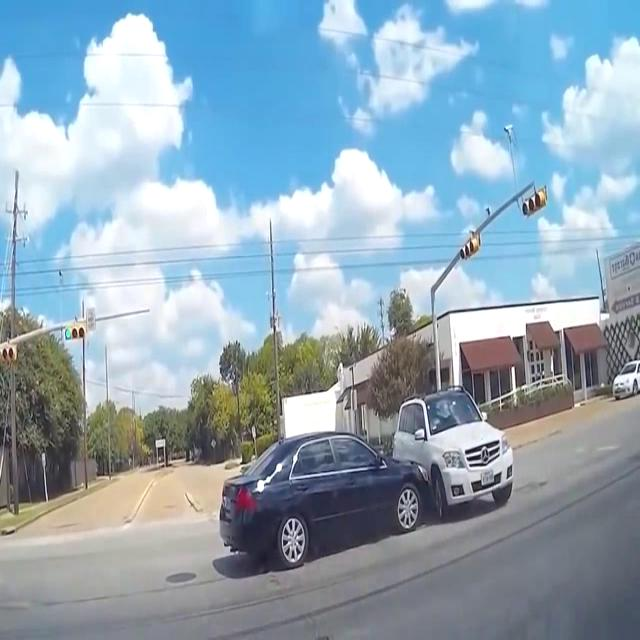accident: (218, 382, 516, 570)
